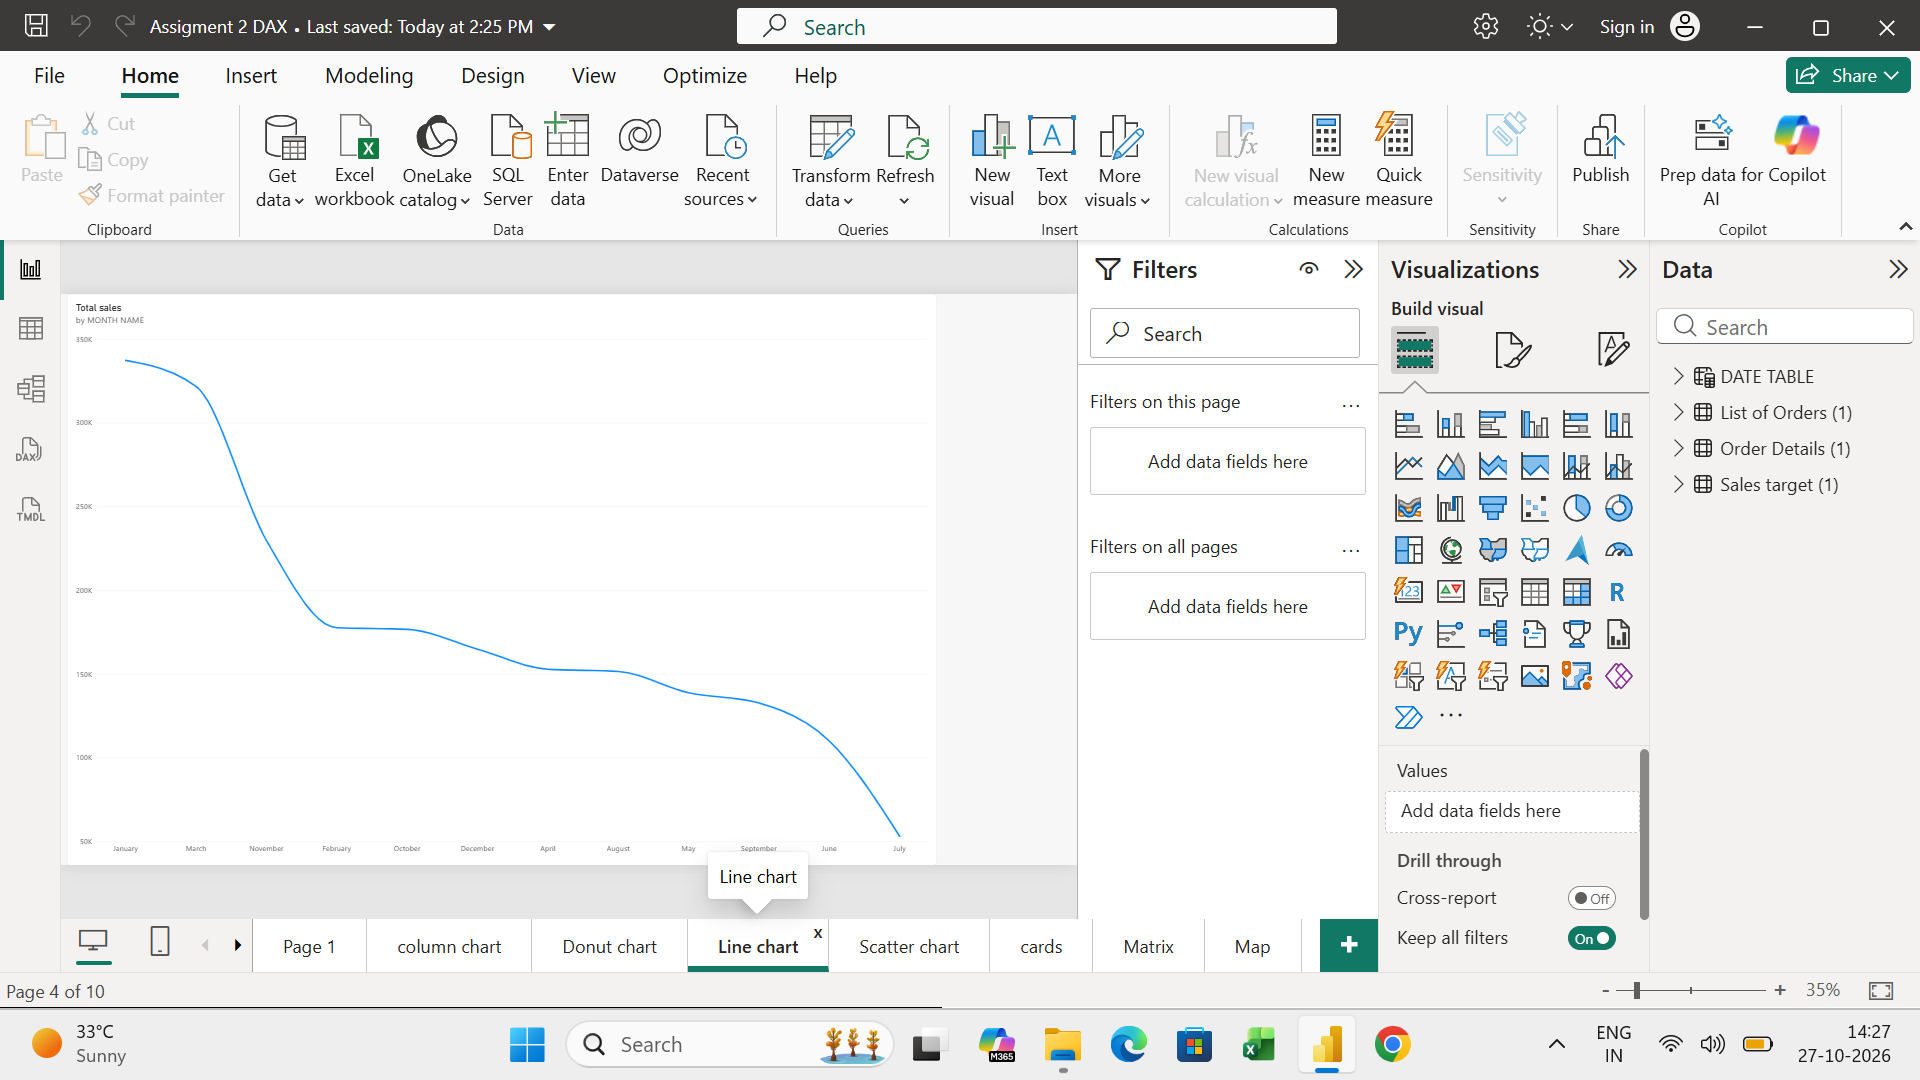

Layout of this report page (visuals, bound fields, positions):
{"tool":"powerbi","page":{"name":"Line chart","canvas":[1920,1080],"ordinal":3},"visuals":[{"type":"lineChart","fields":{"Category":["DATE TABLE.MONTH NAME"],"Y":["Order Details (1).Total sales"]},"box":[11.3,0,1644.1,1080],"z":0}]}

Visuals, with their boxes on the page's 1920x1080 design canvas (x1, y1, x2, y2). These are canvas units, not pixel positions in the 1920x1080 screenshot, which may show the page scaled, cropped or inside an application window:
lineChart - DATE TABLE.MONTH NAME x Order Details (1).Total sales: {"x1": 11, "y1": 0, "x2": 1655, "y2": 1080}
